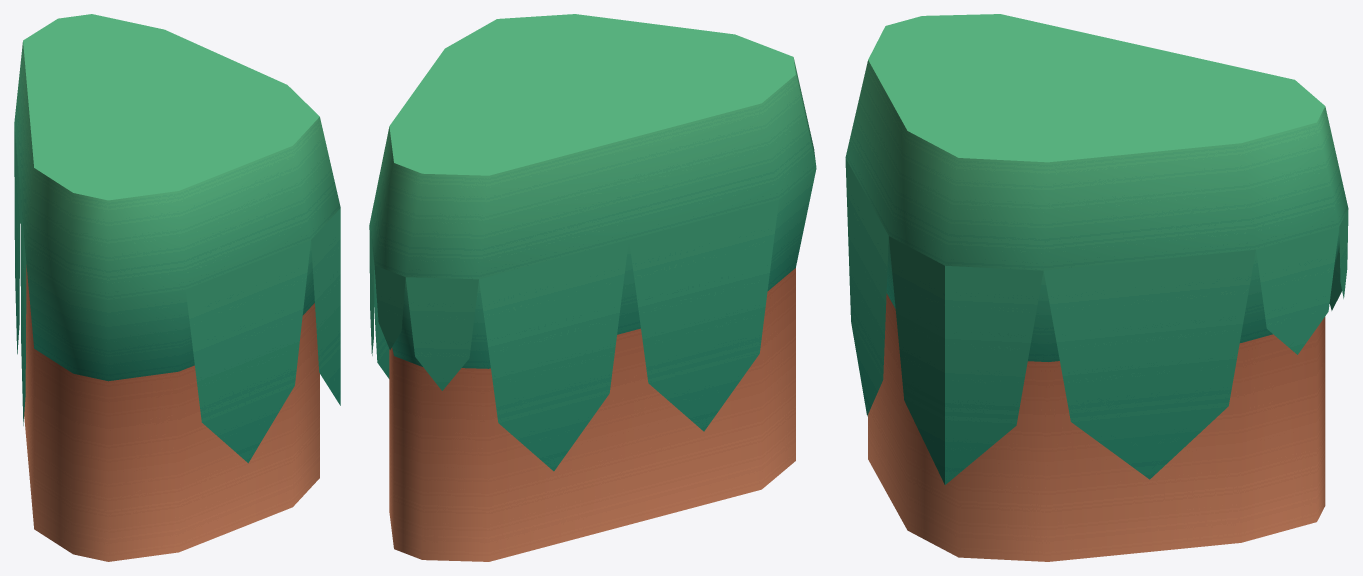
Rendered from block-grass-corner-overhang-low.017_lev2.glb.
3 views of the same model, side by side, from view 1: azimuth 30°, elevation 25°; view 2: azimuth 150°, elevation 25°; view 3: azimuth 270°, elevation 25° (orthographic). The views are drawn at different scales.
Visible parts, largest first — view 1: block-grass-corner-overhang-low.017_lev2; view 2: block-grass-corner-overhang-low.017_lev2; view 3: block-grass-corner-overhang-low.017_lev2.
Part boxes in pixels (left/top/right/bottom): block-grass-corner-overhang-low.017_lev2: left=14, top=14, right=340, bottom=561; block-grass-corner-overhang-low.017_lev2: left=369, top=14, right=816, bottom=561; block-grass-corner-overhang-low.017_lev2: left=845, top=14, right=1348, bottom=561.
Size of the model in its own units: 2.5 by 2.86 by 3.26.
Materials: 1 (1 with a texture image).
